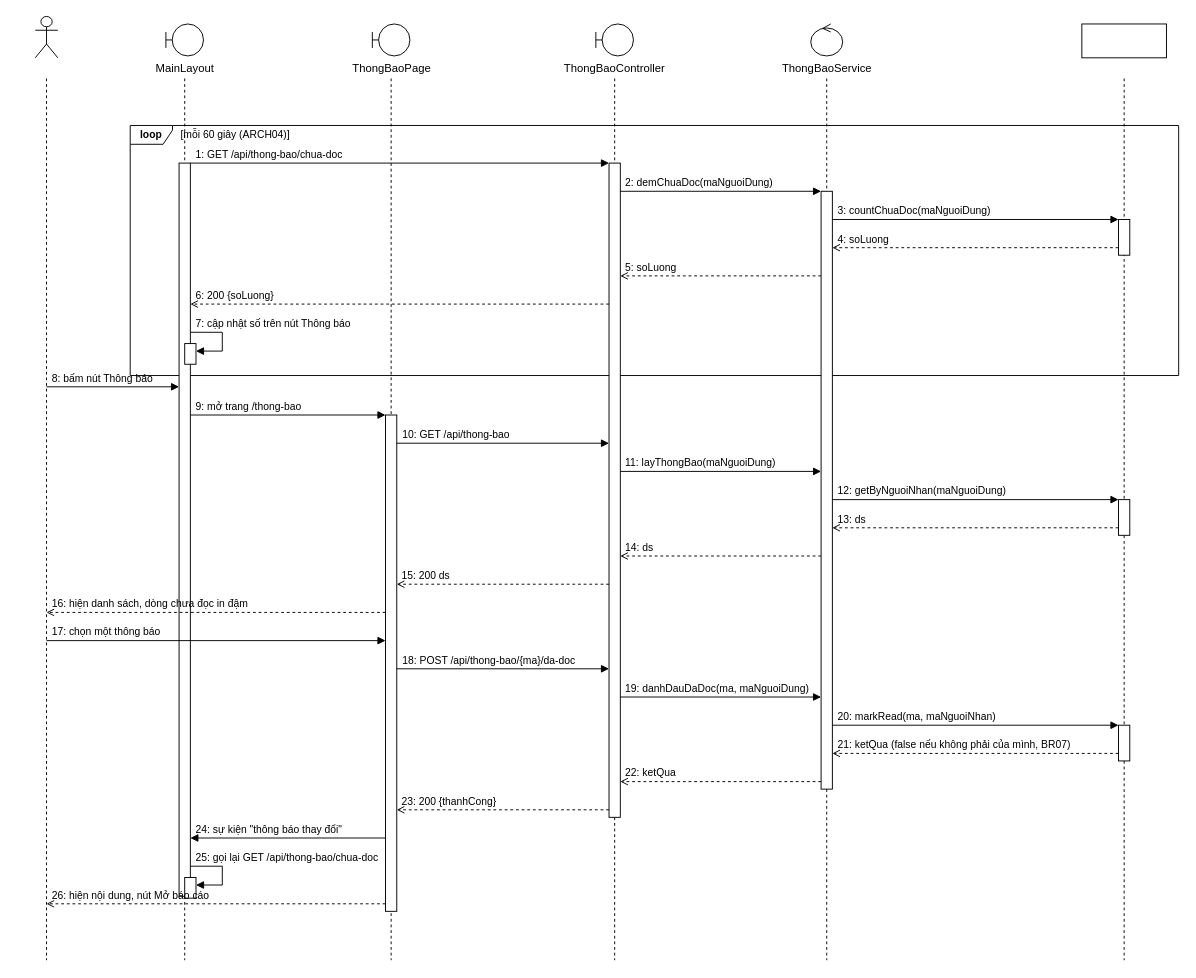
The diagram is 1196 pixels wide and 978 high, and some of its shapes have lost their labels. Each missing label, with the centre of its shape:
"Người dùng" belongs at point 46,37.
"ThongBaoDal" belongs at point 1123,40.
